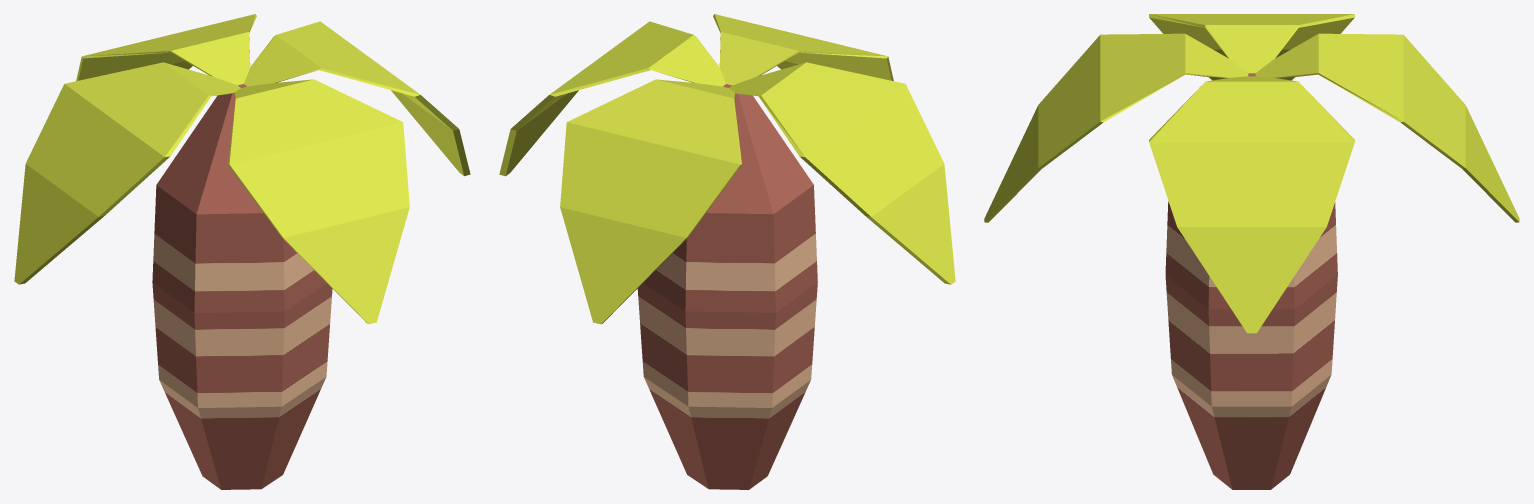
File: tree3.fbx
3 renders of one model, left to right at view 1: azimuth 30°, elevation 25°; view 2: azimuth 150°, elevation 25°; view 3: azimuth 270°, elevation 25°, orthographic. The views are drawn at different scales.
Parts seen in each view (by area): view 1: tree3; view 2: tree3; view 3: tree3.
Part boxes in pixels (box(x1,y1,x2,y2)): tree3: box(14, 14, 470, 489); tree3: box(499, 14, 955, 489); tree3: box(984, 14, 1519, 489).
Bounding box in the file's own units: 1496 × 1299 × 1496.
